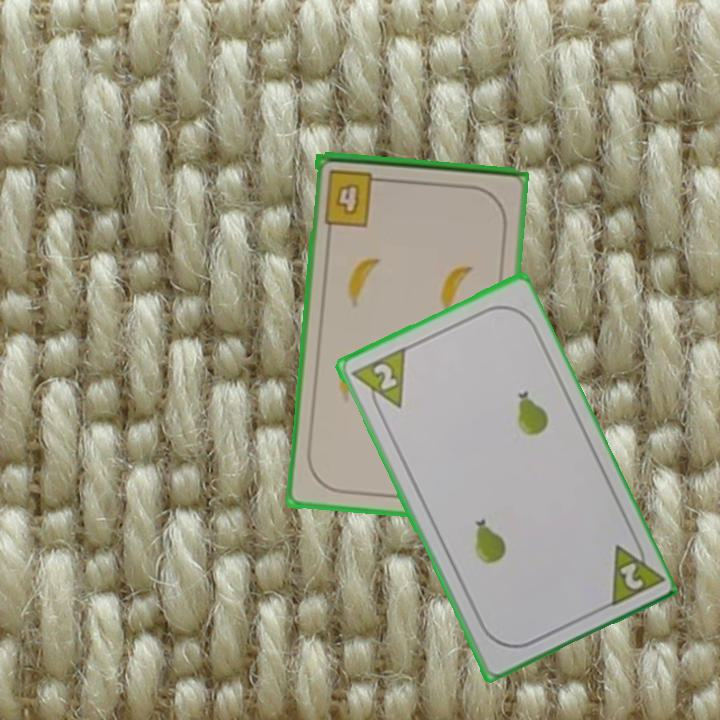2p: (603, 532, 664, 610), (347, 343, 408, 419)
4b: (321, 165, 388, 229)
